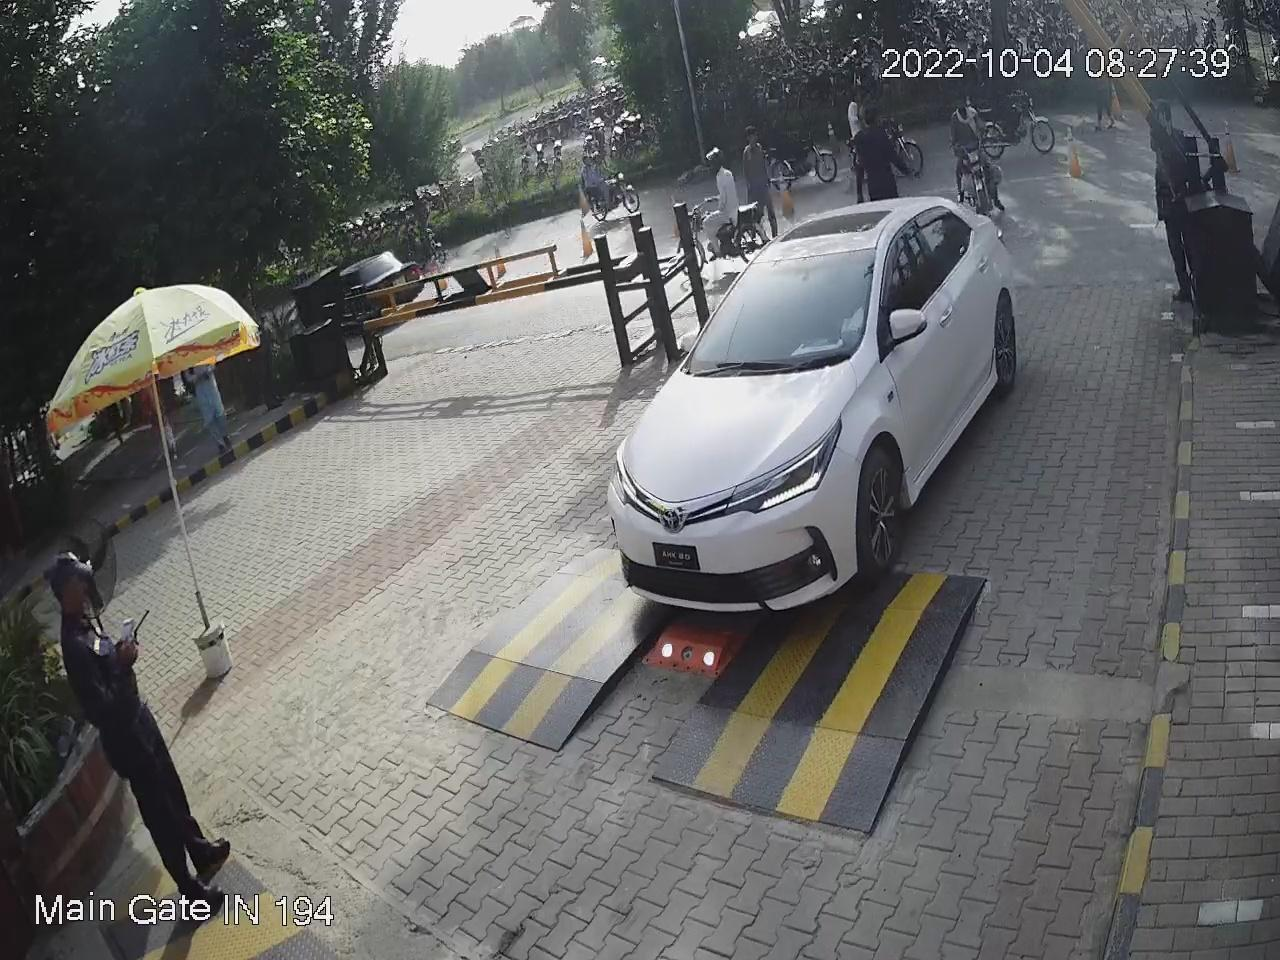windshield: (675, 245, 890, 367)
